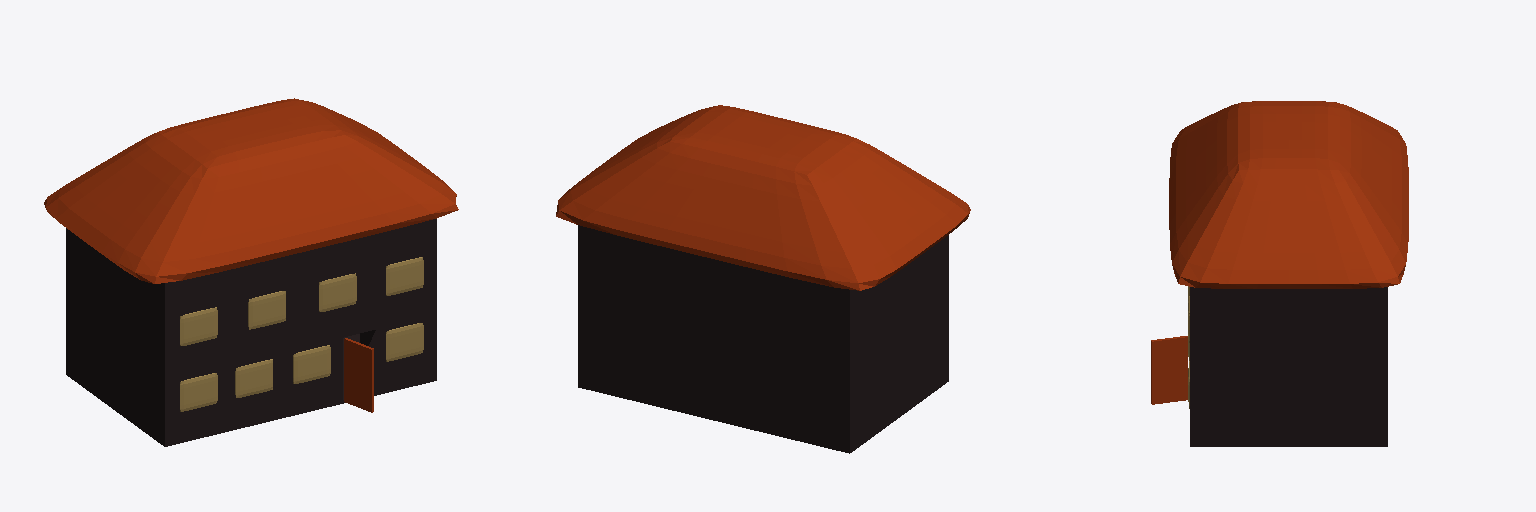
The model's file is building.obj.
3 views of the same model, side by side, from view 1: azimuth 30°, elevation 25°; view 2: azimuth 150°, elevation 25°; view 3: azimuth 270°, elevation 25° (orthographic).
Parts seen in each view (by area): view 1: Cube.012; view 2: Cube.012; view 3: Cube.012.
Part boxes in pixels (x1,y1,x2,y2): Cube.012: (44, 98, 458, 446); Cube.012: (556, 105, 970, 453); Cube.012: (1151, 101, 1408, 446).
Bounding box in the file's own units: 3.34 × 2.43 × 2.27.